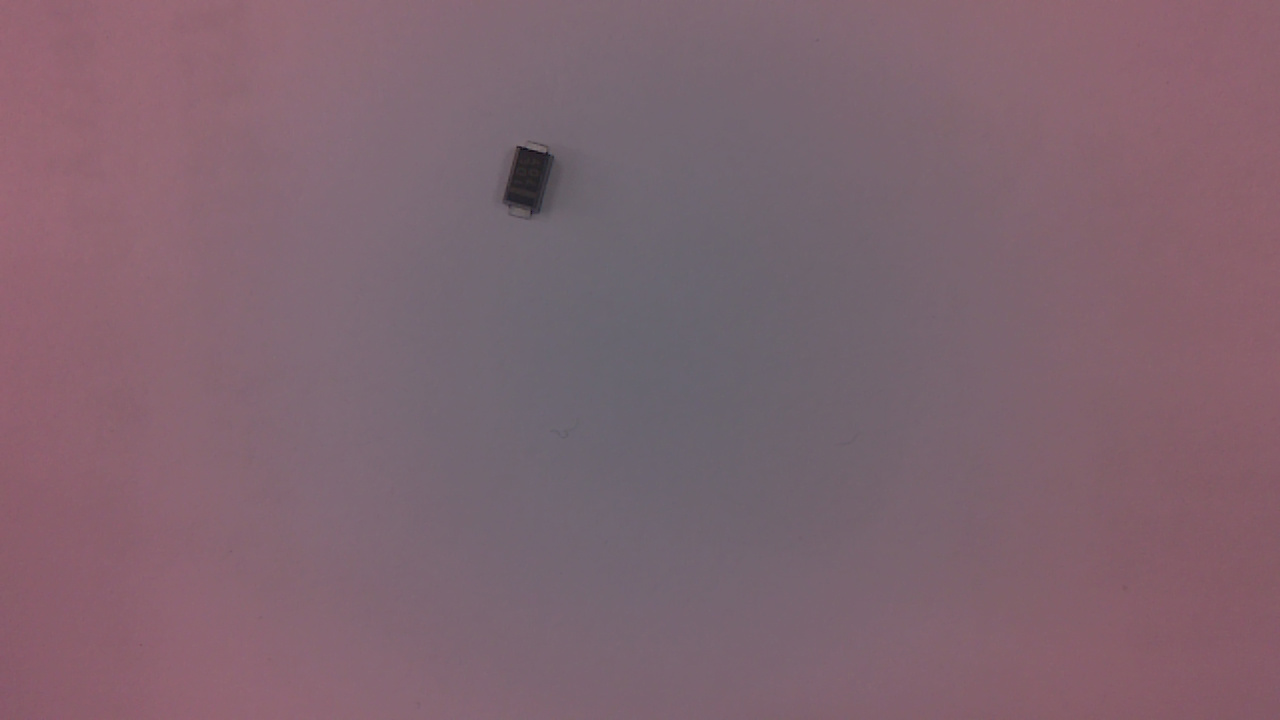Diode: (504, 145, 565, 228)
